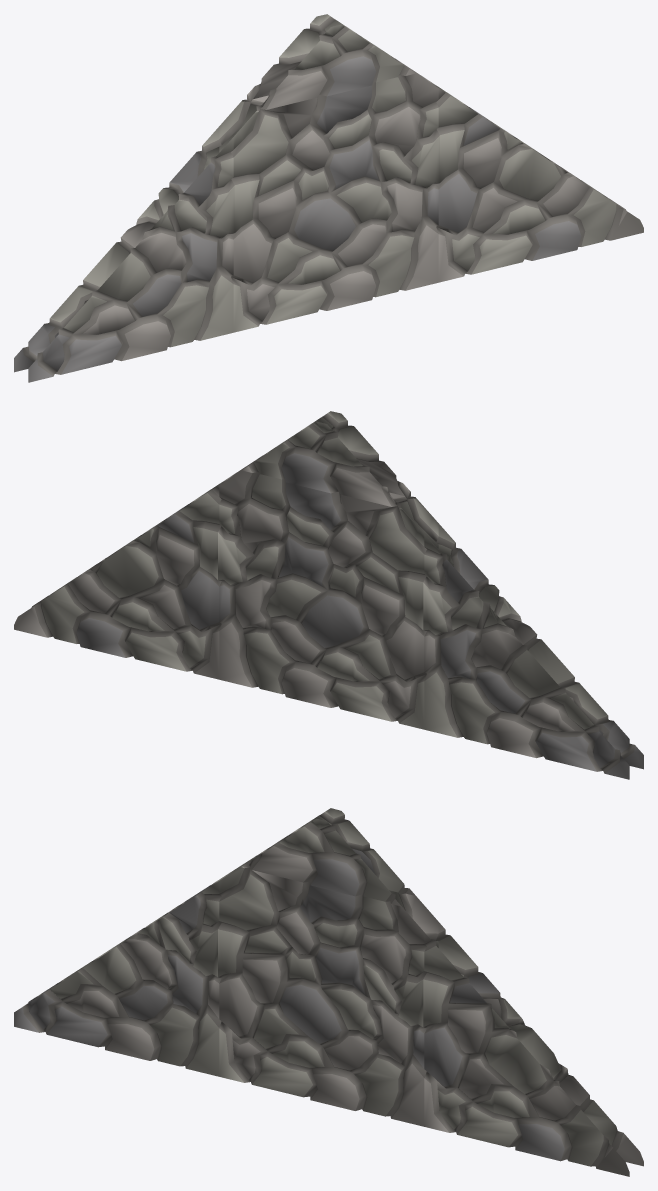
Rendered from rpgpp_ag_roof_end_01_9x4_wall_c.fbx.
The picture shows the model from 3 angles, top to bottom: view 1: azimuth 30°, elevation 25°; view 2: azimuth 150°, elevation 25°; view 3: azimuth 330°, elevation 25°; orthographic projection.
Visible parts, largest first — view 1: rpgpp_ag_roof_end_01_9x4_wall_c; view 2: rpgpp_ag_roof_end_01_9x4_wall_c; view 3: rpgpp_ag_roof_end_01_9x4_wall_c.
Part boxes in pixels (left/top/right/bottom): rpgpp_ag_roof_end_01_9x4_wall_c: left=14, top=14, right=643, bottom=382; rpgpp_ag_roof_end_01_9x4_wall_c: left=14, top=411, right=643, bottom=779; rpgpp_ag_roof_end_01_9x4_wall_c: left=14, top=808, right=643, bottom=1176.
Bounding box in the file's own units: 9 × 3.94 × 0.4229.
